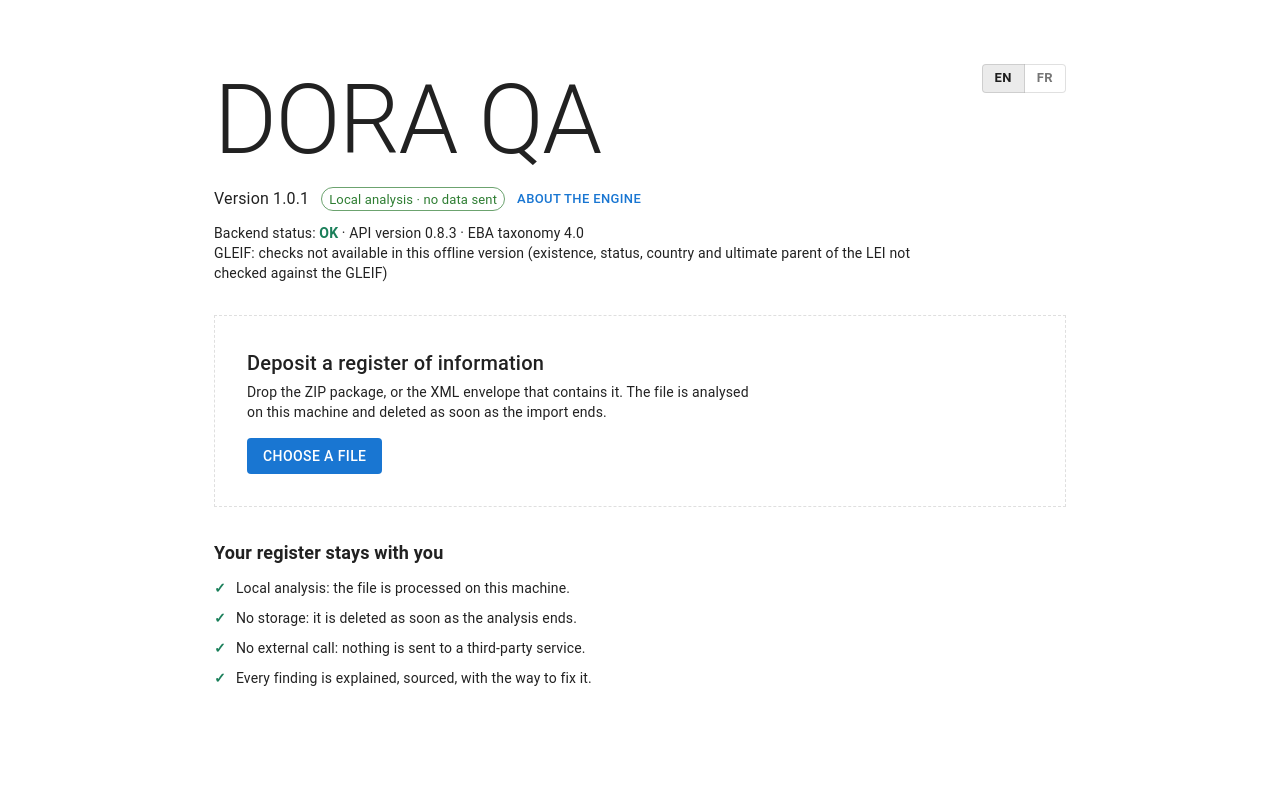
Test case: About the engine › says so when the engine cannot be read
Click the button "About the engine".
click(579, 199)  # box [517,184,641,215]
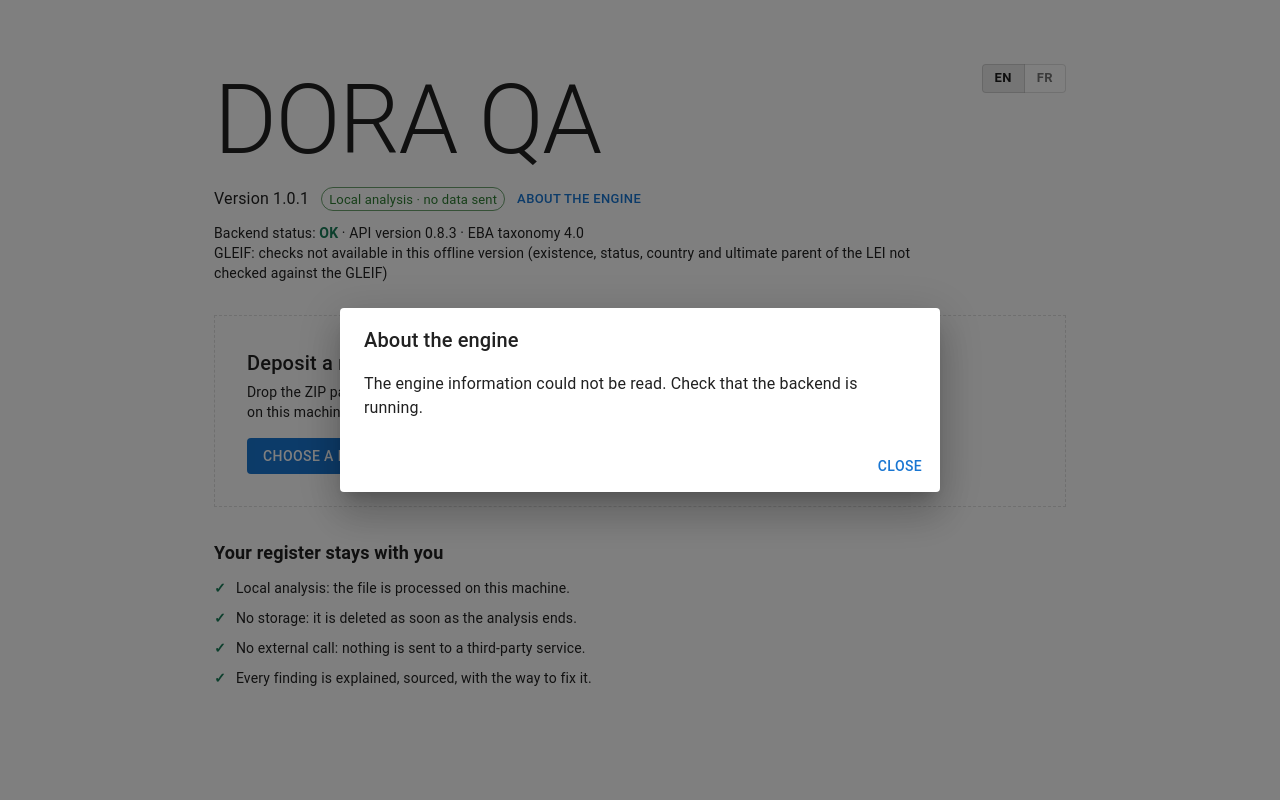
Check: the text "could not be read" is shown, box [364,374,858,417]
